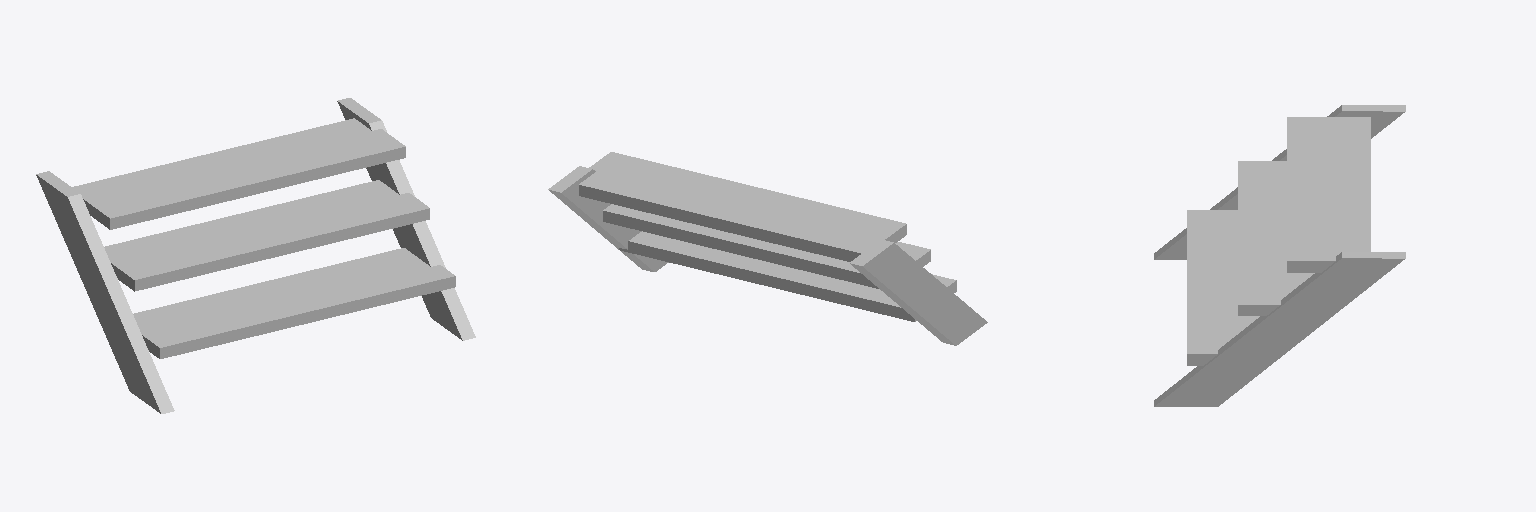
File: steps.obj
3 renders of one model, left to right at view 1: azimuth 30°, elevation 25°; view 2: azimuth 150°, elevation 25°; view 3: azimuth 270°, elevation 25°, orthographic.
Parts seen in each view (by area): view 1: Cube_Cube.001; view 2: Cube_Cube.001; view 3: Cube_Cube.001.
Boxes of the visible parts, box(x1,y1,x2,y2) form: Cube_Cube.001: box(36, 98, 475, 413); Cube_Cube.001: box(548, 152, 987, 345); Cube_Cube.001: box(1154, 105, 1405, 406).
Size of the model in its own units: 17.45 by 7.9 by 12.08.